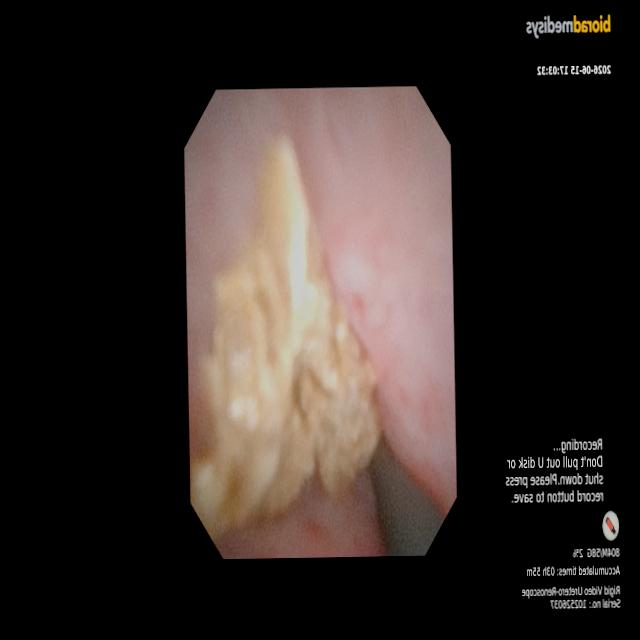stone-new: (191, 137, 379, 536)
